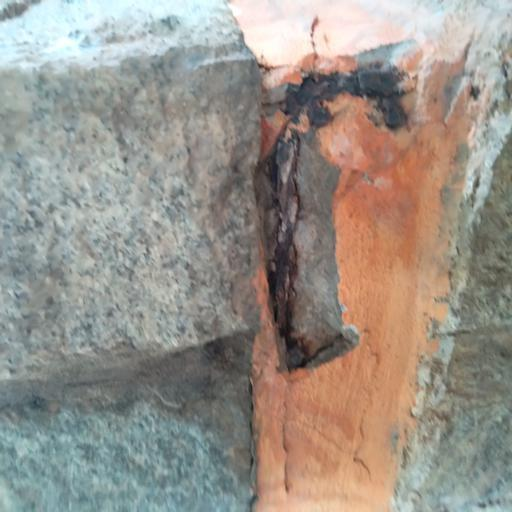spalling: (220, 0, 492, 512)
